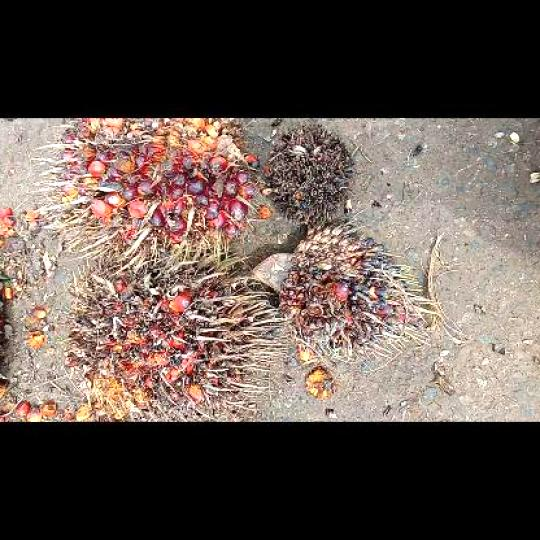masak: (35, 118, 251, 264)
terlalu masak: (63, 252, 290, 418)
